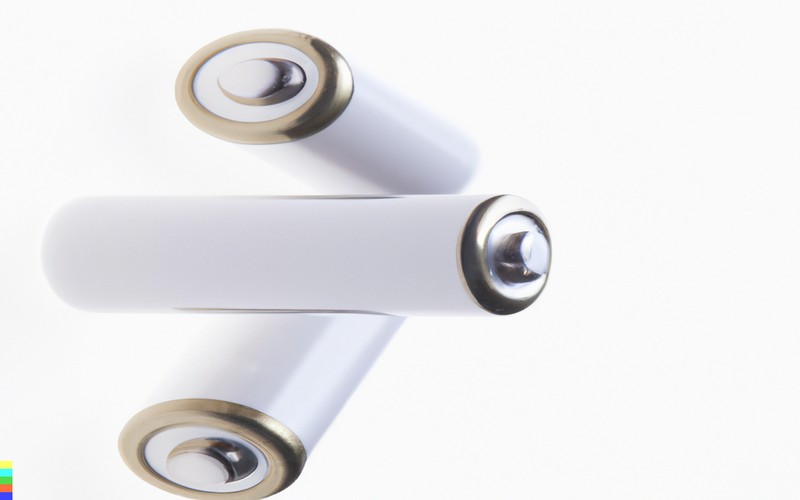Battery: (28, 22, 581, 500)
